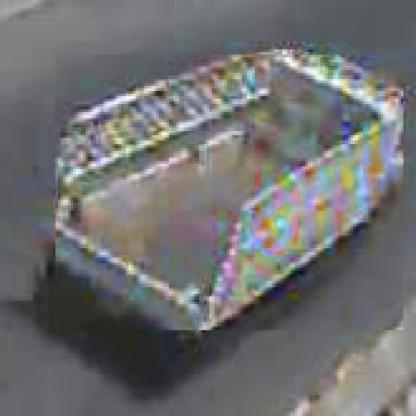truck: (54, 56, 404, 334)
